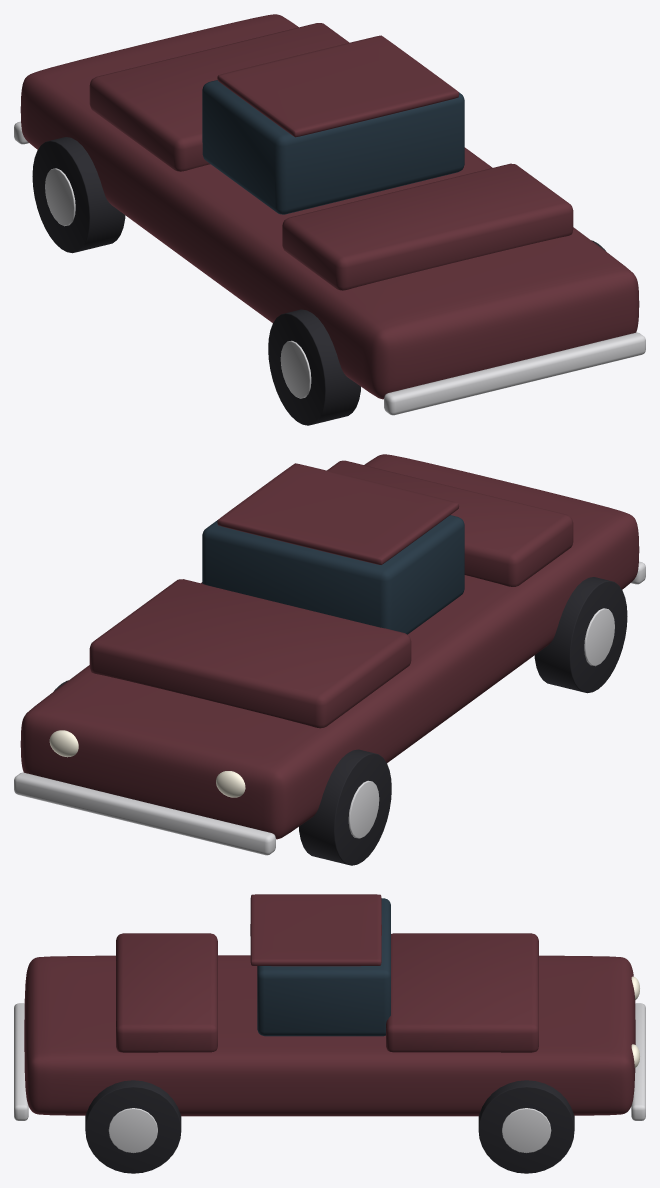
The model's file is car.fbx.
3 renders of one model, top to bottom at view 1: azimuth 30°, elevation 25°; view 2: azimuth 150°, elevation 25°; view 3: azimuth 270°, elevation 25°, orthographic. The views are drawn at different scales.
Parts seen in each view (by area): view 1: body, trunk, cabin, roof, hood, bumper.001, wheel, wheel.001, hub.001, hub; view 2: body, hood, cabin, roof, trunk, bumper, wheel.001, wheel, hub, hub.001, headlight, headlight.001; view 3: body, hood, trunk, cabin, roof, wheel.002, wheel.003, hub.002, hub.003, bumper.001, bumper.
Boxes of the visible parts, x1,y1,x2,y2 form: body: (20,14,639,399); trunk: (282,163,573,290); cabin: (202,80,464,214); roof: (217,35,459,137); hood: (89,23,349,171); bumper.001: (384,332,645,415); wheel: (268,309,360,425); wheel.001: (32,137,125,253); hub.001: (45,168,75,226); hub: (280,340,311,398); body: (20,454,639,839); hood: (89,579,411,728); cabin: (202,515,464,634); roof: (217,463,459,564); trunk: (327,460,573,586); bumper: (14,772,275,855); wheel.001: (299,749,391,865); wheel: (534,577,627,693); hub: (584,608,614,666); hub.001: (348,780,379,838); headlight: (216,771,245,797); headlight.001: (49,730,78,757); body: (24,955,635,1116); hood: (386,933,538,1052); trunk: (116,933,217,1052); cabin: (257,898,390,1036); roof: (250,894,381,966); wheel.002: (85,1080,181,1173); wheel.003: (478,1080,574,1173); hub.002: (108,1108,157,1152); hub.003: (502,1108,551,1152); bumper.001: (14,1003,28,1120); bumper: (631,1003,645,1120).
Size of what is drawn, in the model's own units: 202 by 140 by 434.
